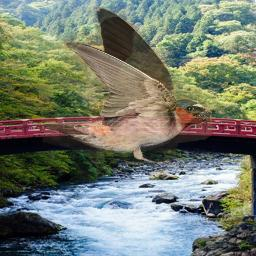Swallow: (39, 7, 212, 165)
